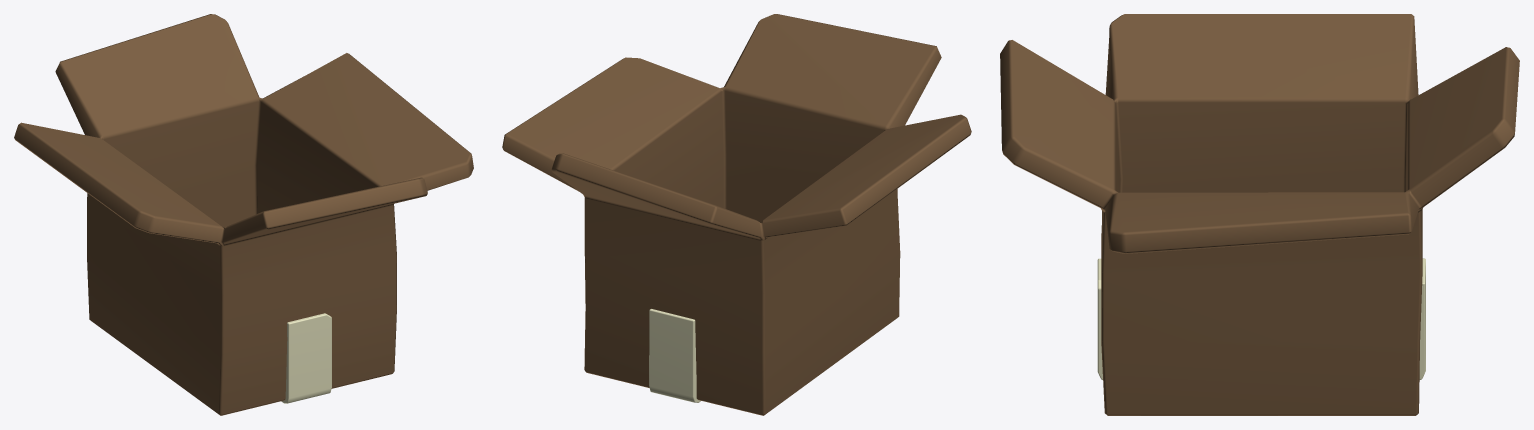
File: SM_Cardboard_01.fbx
3 views of the same model, side by side, from view 1: azimuth 30°, elevation 25°; view 2: azimuth 150°, elevation 25°; view 3: azimuth 270°, elevation 25° (orthographic). The views are drawn at different scales.
Visible parts, largest first — view 1: Cube.001, Cube.002; view 2: Cube.001, Cube.002; view 3: Cube.001, Cube.002.
Part boxes in pixels (box(x1,y1,x2,y2)): Cube.001: box(14, 14, 473, 415); Cube.002: box(281, 313, 331, 403); Cube.001: box(502, 14, 971, 415); Cube.002: box(649, 309, 700, 402); Cube.001: box(1000, 14, 1519, 415); Cube.002: box(1097, 258, 1425, 379).
Size of the model in its own units: 123 by 84.89 by 136.
